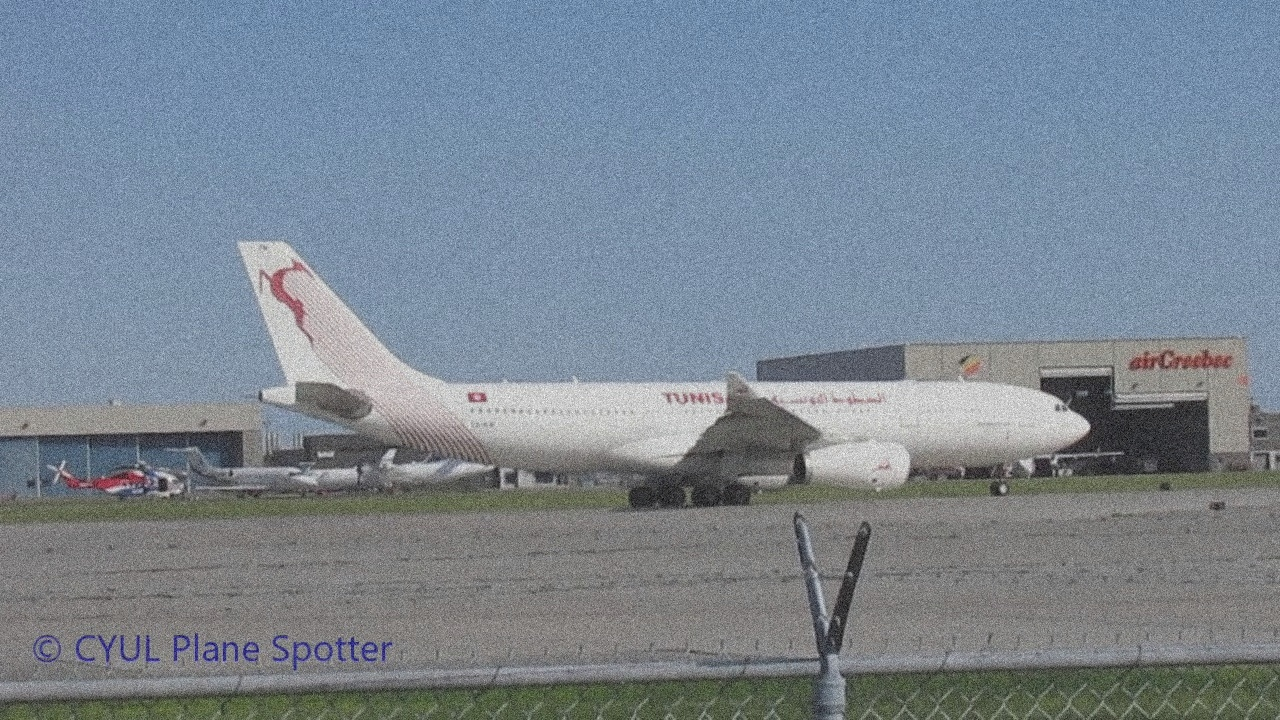Airplane: (232, 234, 1094, 506)
